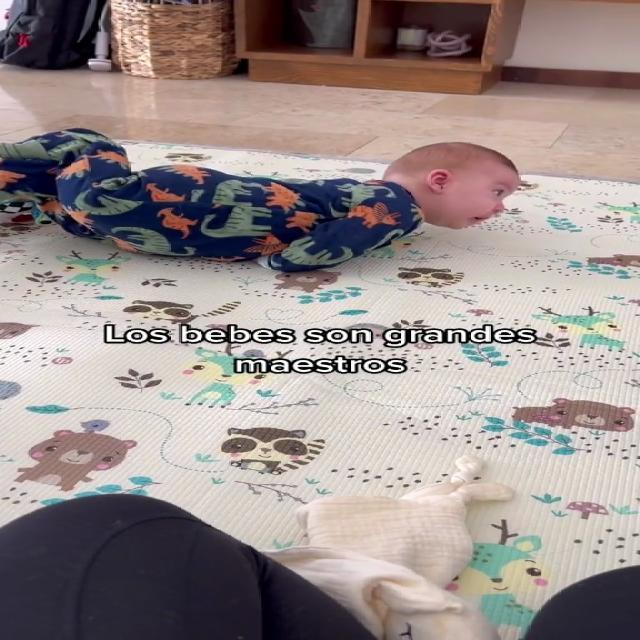baby: (0, 118, 543, 286)
